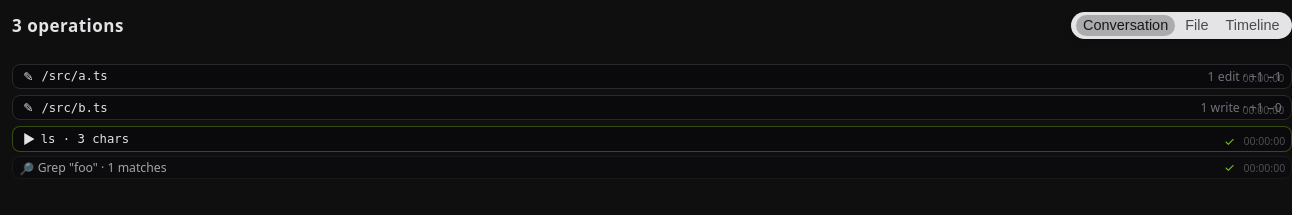
Test: <OpStripLightbox> › toggling to file view shows the tree, a default selection, and the non-file summary
The width and height of the screenshot is (1292, 215).
Click the button "File": (1197, 26) [1178, 15, 1215, 36]
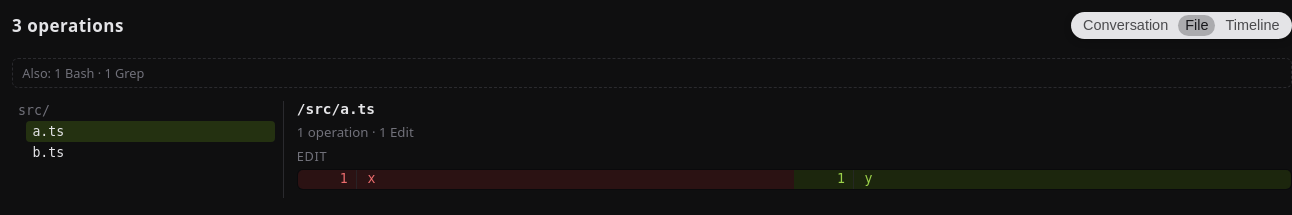
Expected: the button "b.ts" is shown, [26, 142, 274, 163]
Expected: the button "a.ts" is shown, [26, 121, 274, 142]
Expected: the text "Also: 1 Bash · 1 Grep" is shown, [12, 58, 1291, 88]
